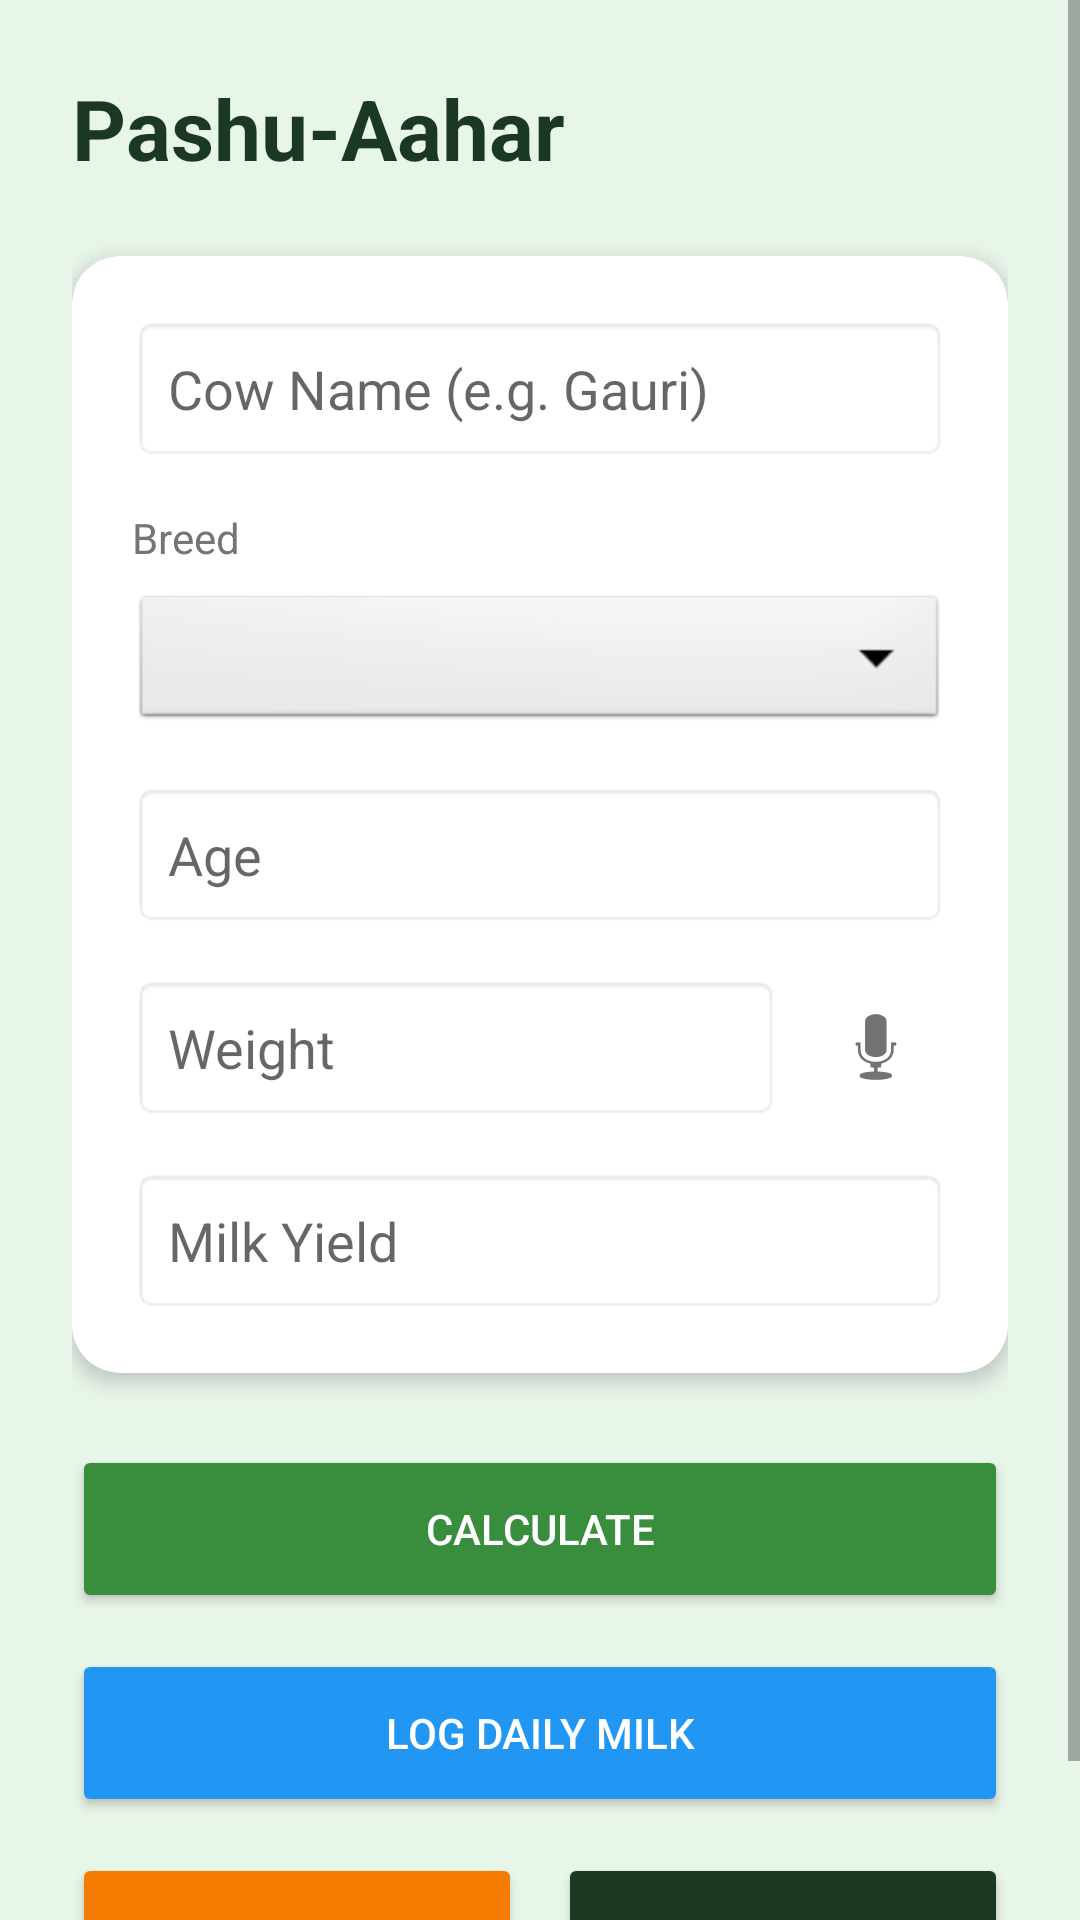

Icon click points for this 1080 x 1920 phone screenshot, format point (x, y):
Voice Input: point (876, 1047)
